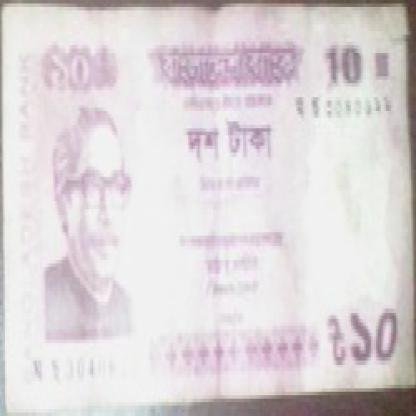Ten Taka: (35, 28, 113, 100), (351, 295, 406, 381), (316, 17, 369, 94)
